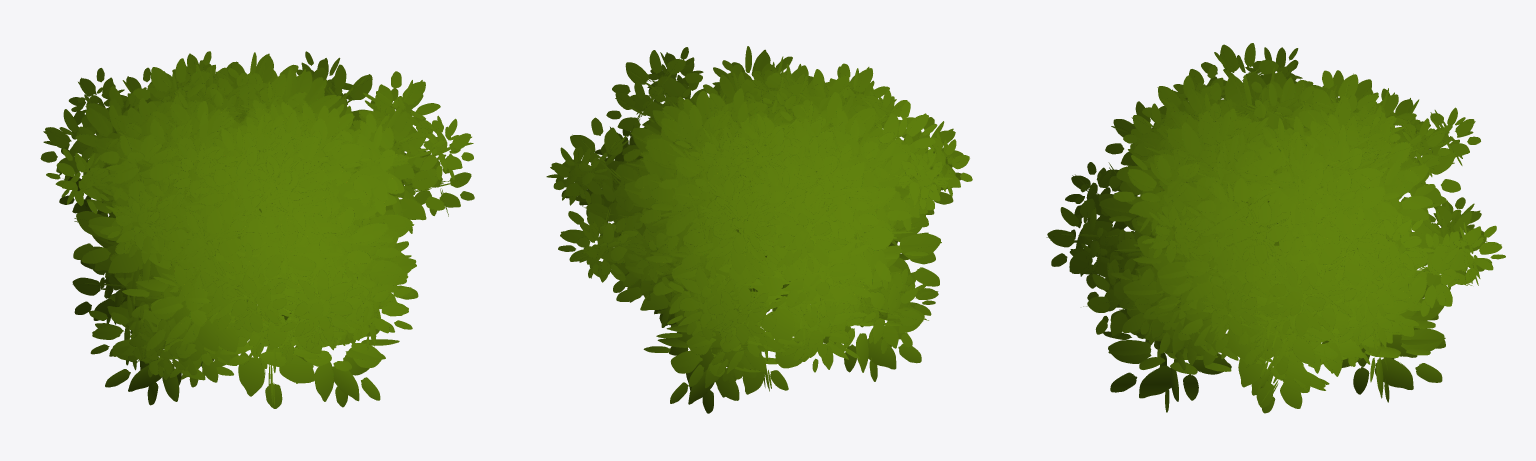
Rendered from Bush_Common.gltf.
3 renders of one model, left to right at view 1: azimuth 30°, elevation 25°; view 2: azimuth 150°, elevation 25°; view 3: azimuth 270°, elevation 25°, orthographic. The views are drawn at different scales.
Visible parts, largest first — view 1: Bush_Common; view 2: Bush_Common; view 3: Bush_Common.
Part boxes in pixels (bbox=[...]): Bush_Common: bbox=[40, 51, 474, 408]; Bush_Common: bbox=[546, 46, 972, 413]; Bush_Common: bbox=[1046, 43, 1505, 413].
Size of the model in its own units: 1.91 by 1.58 by 1.97.
Materials: 1 (1 with a texture image).
